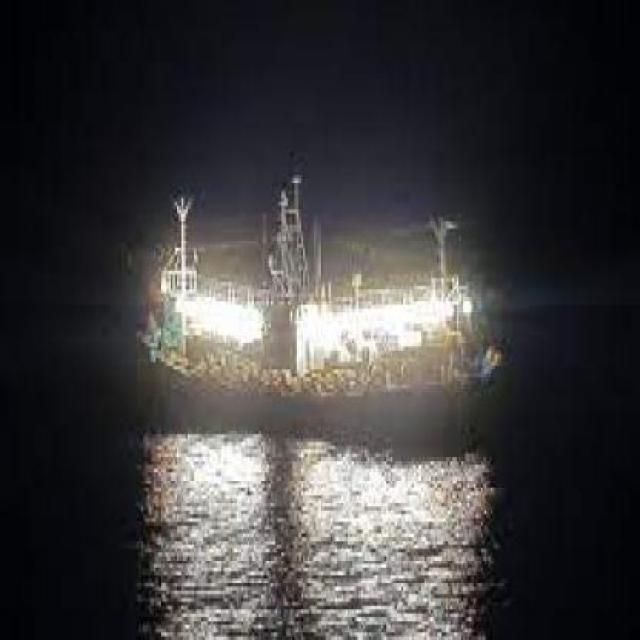fish-b: (108, 161, 511, 447)
